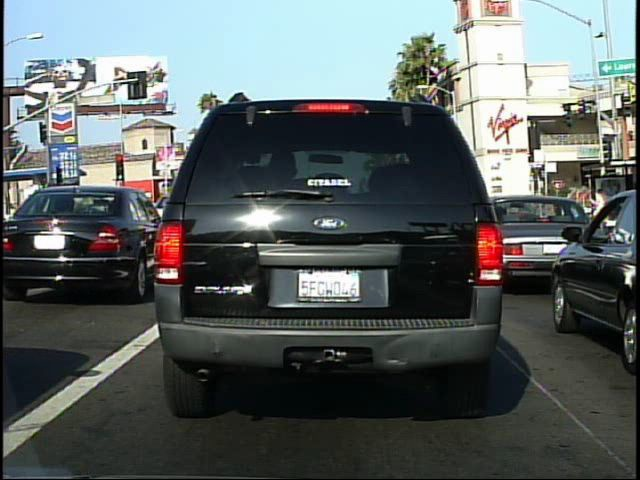person: (589, 184, 610, 243)
